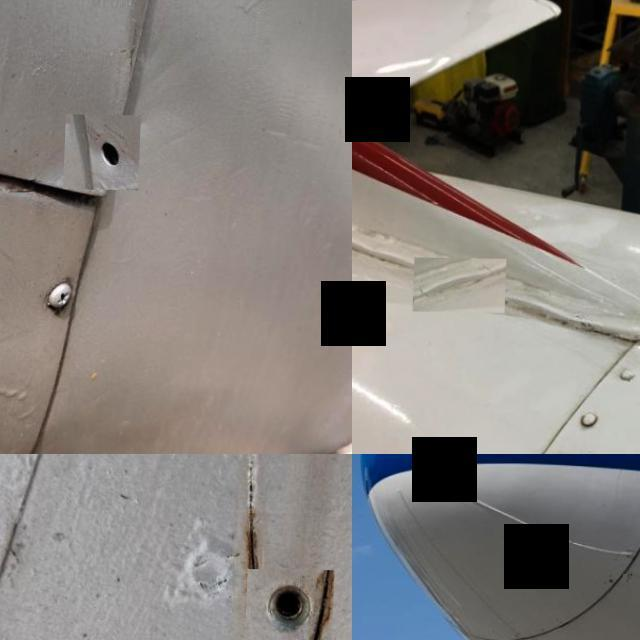Crack: (517, 283, 640, 358), (416, 257, 508, 312), (626, 572, 636, 582)
Missing_Fastener: (246, 568, 336, 640), (66, 114, 143, 190)
